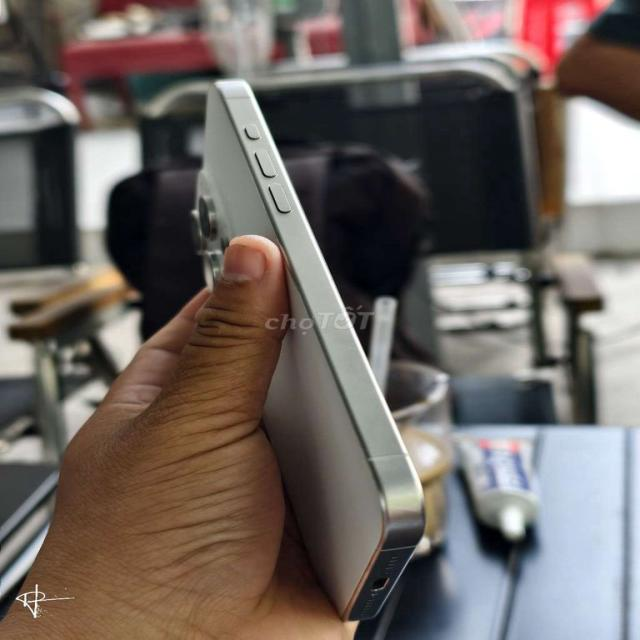gen_15: (134, 78, 446, 626)
